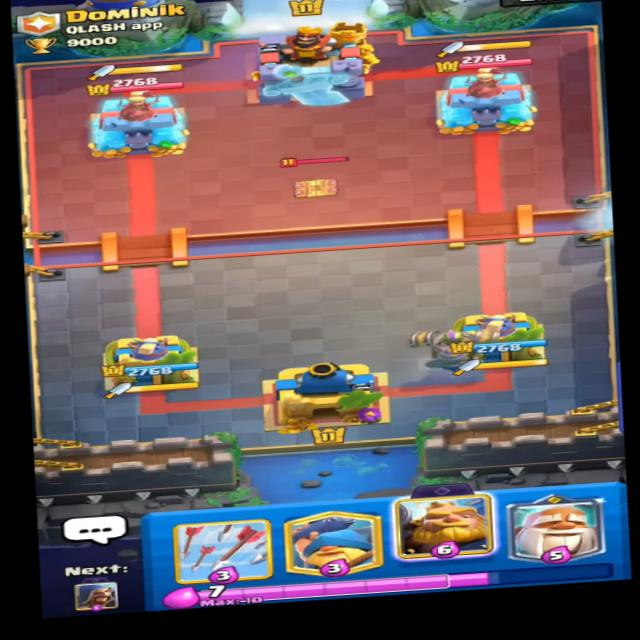Teslahidden: (269, 146, 364, 205)
